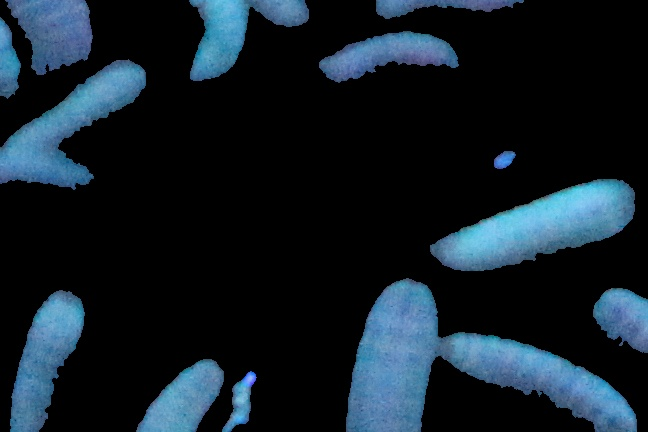larvae: (1, 59, 147, 213), (440, 327, 639, 432), (426, 175, 637, 269), (340, 276, 444, 432), (6, 289, 86, 432), (319, 30, 460, 83), (2, 1, 94, 75), (136, 361, 221, 432), (182, 1, 251, 72), (18, 150, 94, 196)
